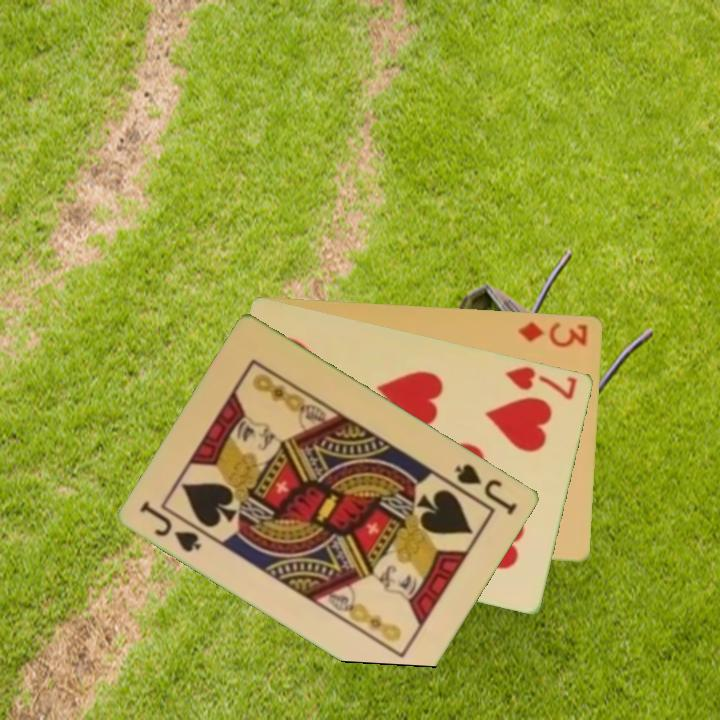3d: (515, 318, 591, 350)
7h: (502, 362, 581, 403)
Js: (136, 497, 205, 556), (452, 460, 521, 518)
